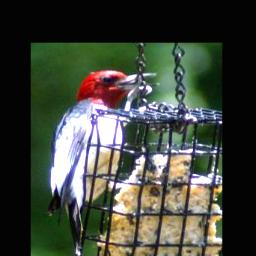Woodpecker: (46, 68, 162, 256)
